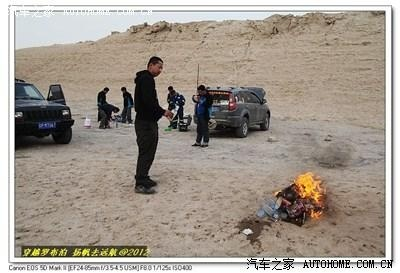fire: (290, 168, 325, 217)
